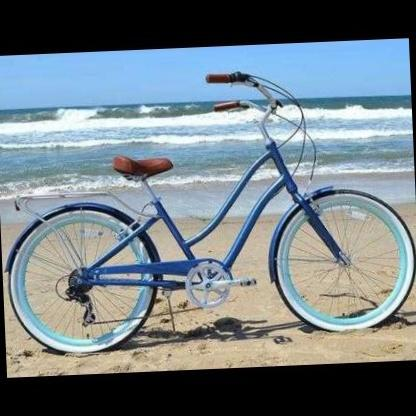Bicycle: (0, 88, 414, 356)
